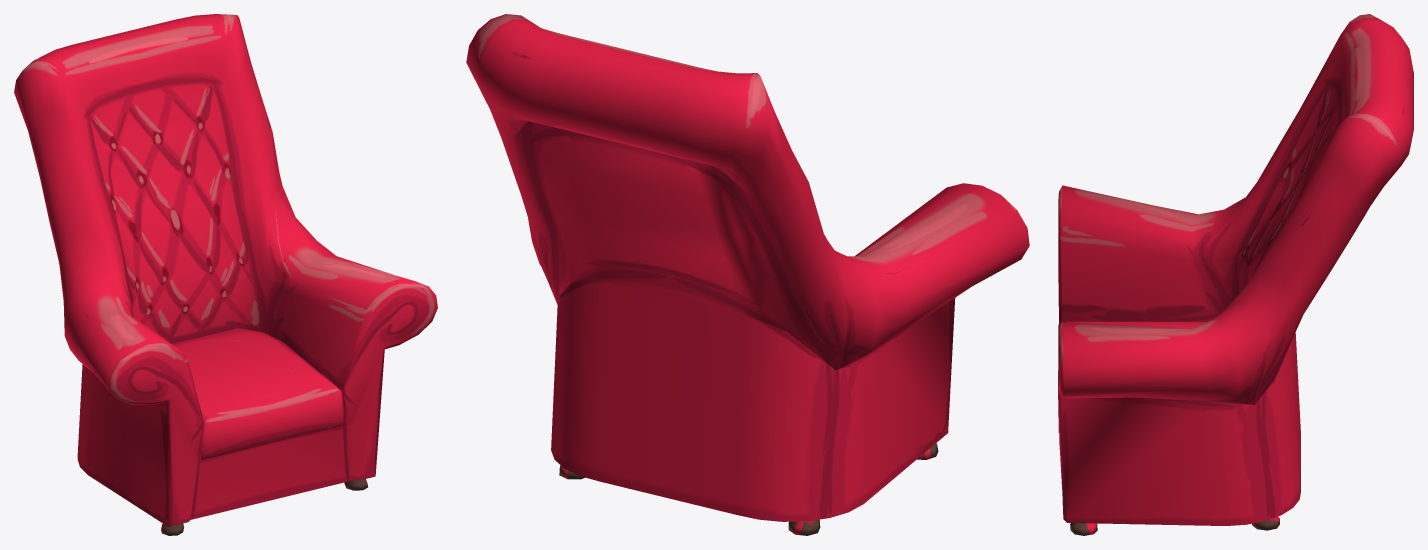
File: dad.fbx
3 views of the same model, side by side, from view 1: azimuth 30°, elevation 25°; view 2: azimuth 150°, elevation 25°; view 3: azimuth 270°, elevation 25° (orthographic). The views are drawn at different scales.
Visible parts, largest first — view 1: armchair_1; view 2: armchair_1; view 3: armchair_1.
Boxes of the visible parts, x1,y1,x2,y2 form: armchair_1: (14, 14, 437, 535); armchair_1: (466, 14, 1029, 535); armchair_1: (1058, 14, 1413, 535).
Size of the model in its own units: 156 by 171 by 133.
